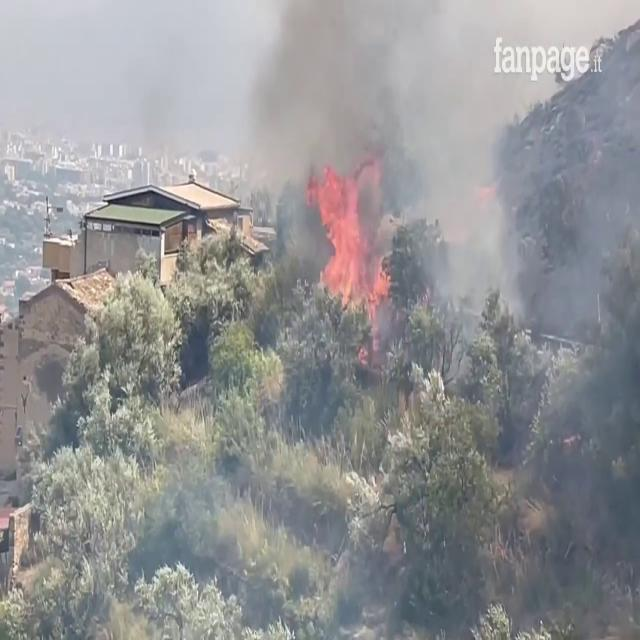Fire: (308, 157, 390, 326)
Smoke: (236, 0, 538, 334)
